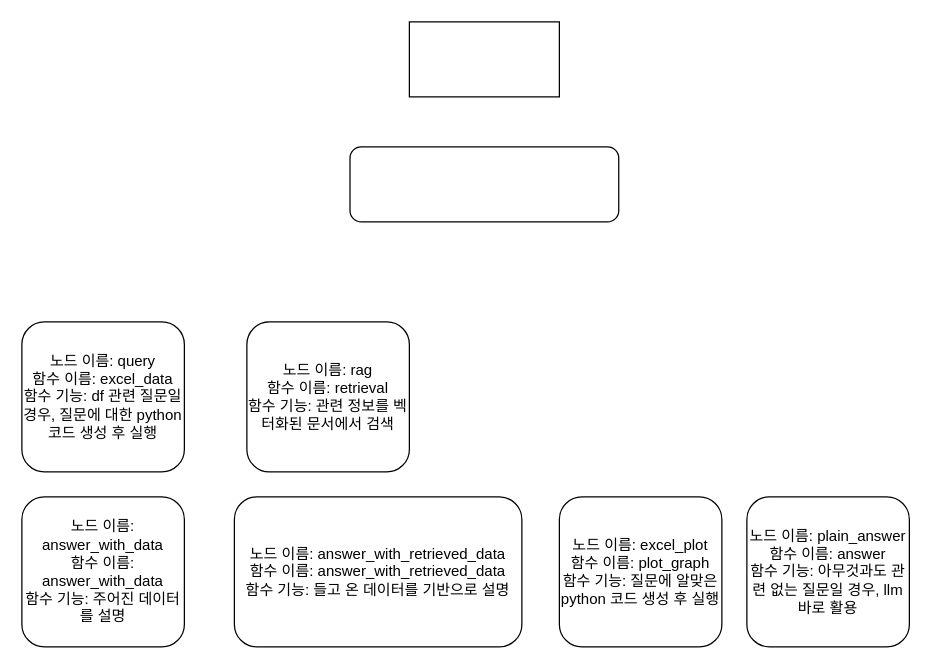
Image size: 931x669. Some labels were removed from this diagram. Here are the shapes that lost their labels. From the top down, the centre of each, then its label:
At (x=483, y=59): "START".
At (x=484, y=184): "노드 이름: init_answer 함수 이름: init_answer 함수 기능: 질문을 알맞게 분류".
